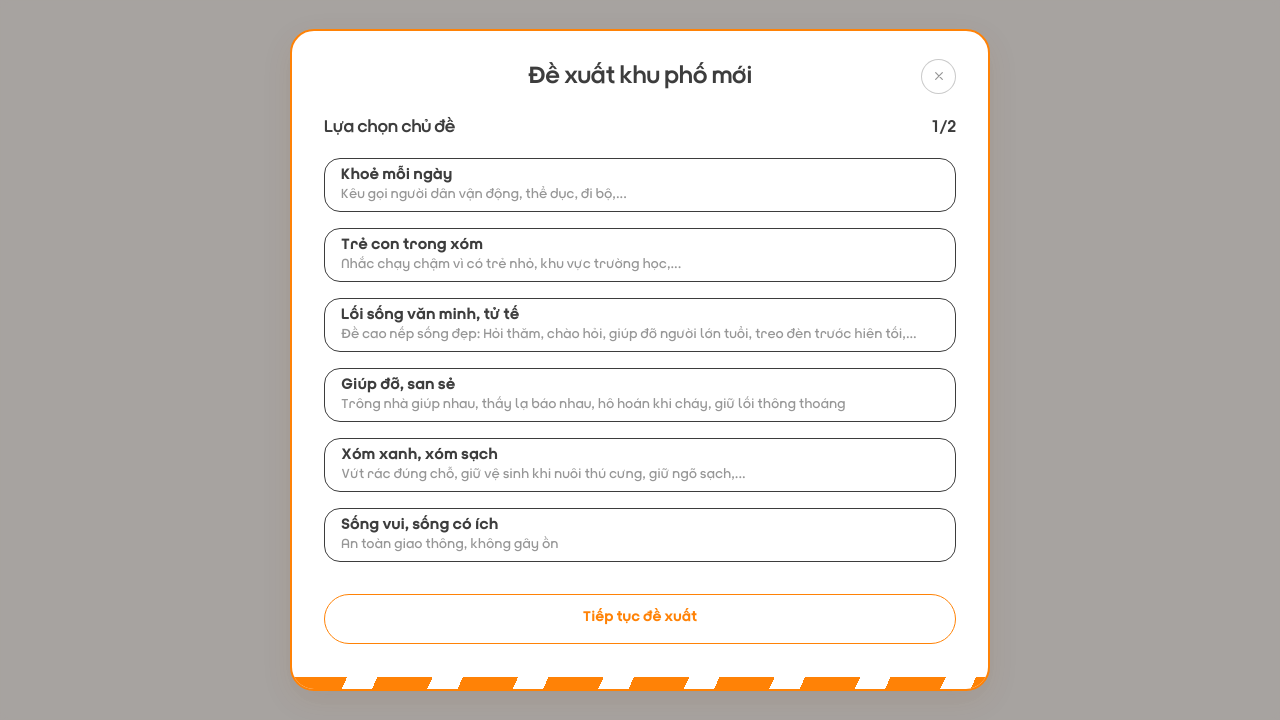
ProposeModal — bước 2/2 thông tin khu phố › chưa chọn tỉnh/thành thì chặn gửi
Click the text "Trẻ con trong xóm" at (412, 245), box [341,237,483,253]
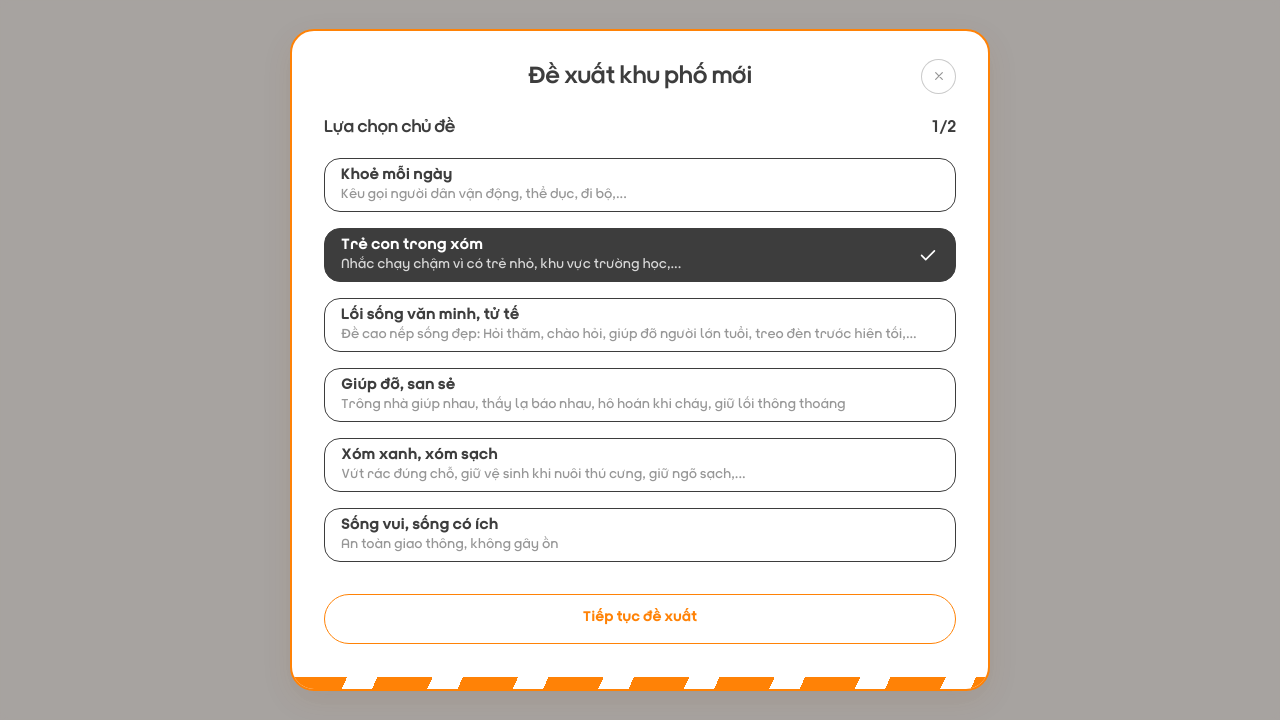
Click the button "Tiếp tục đề xuất" at (640, 619), box [324,594,956,644]
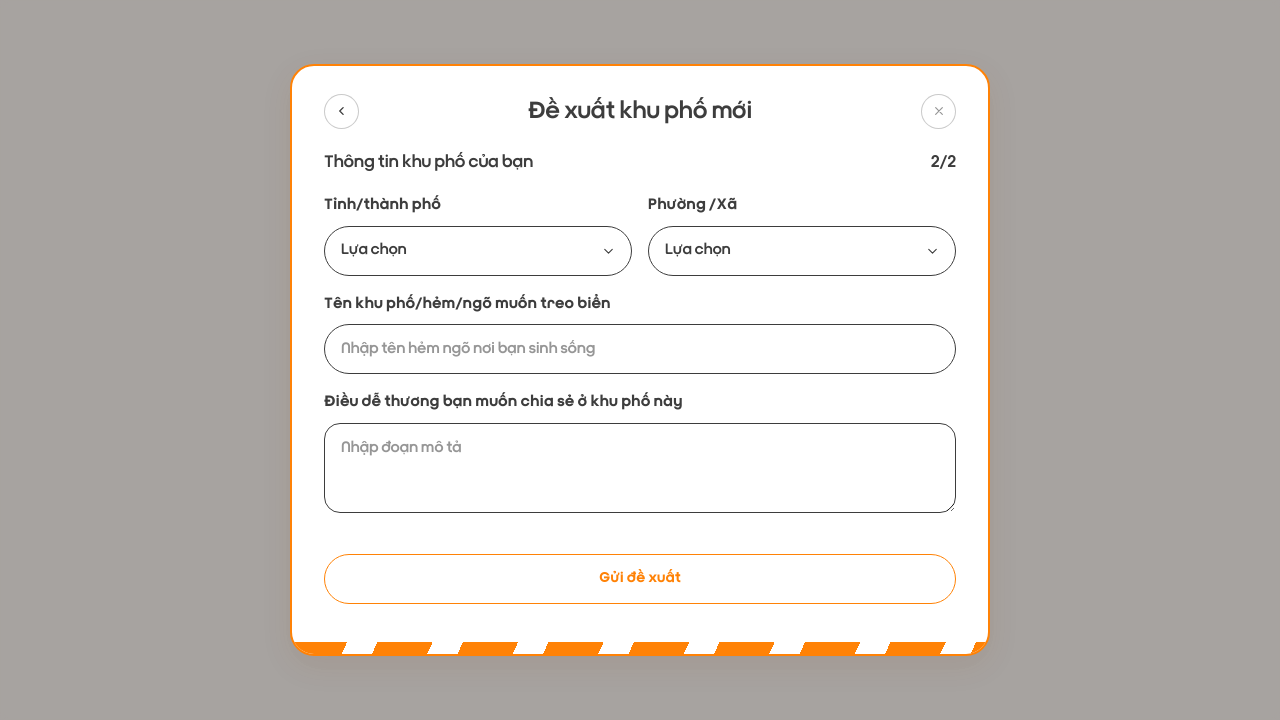
Type "Hẻm 12 Nguyễn Du" into the dropdown with placeholder "Nhập tên hẻm ngõ nơi bạn sinh sống" at (640, 349), box [324,324,956,374]
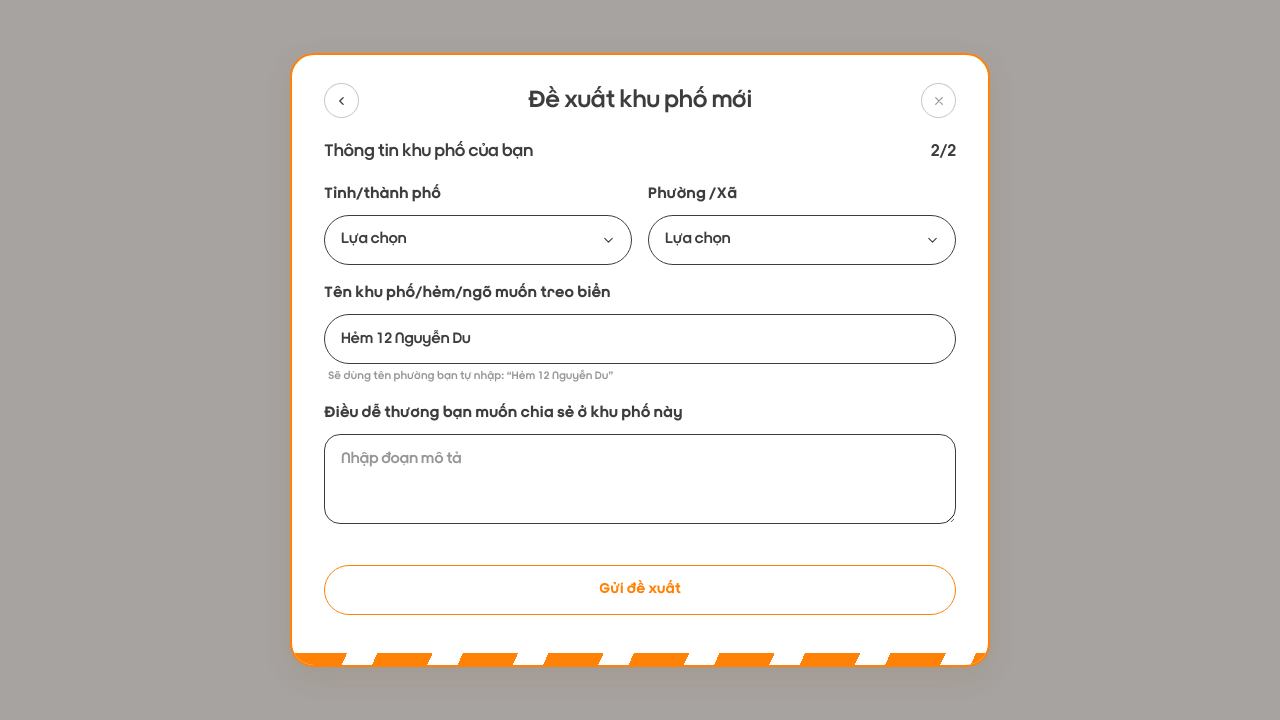
Click the button "Gửi đề xuất" at (640, 590), box [324,565,956,615]
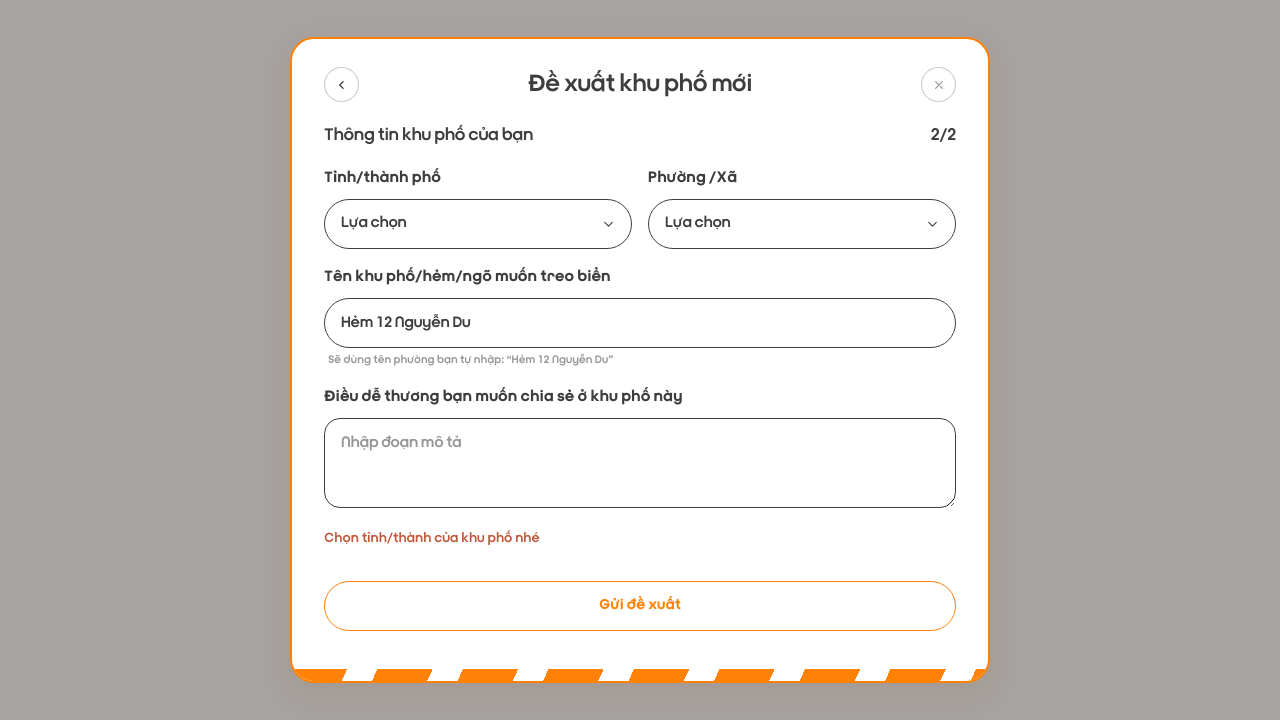
Check: the text "Chọn tỉnh/thành của khu phố nhé" is shown, box [324,531,540,546]
